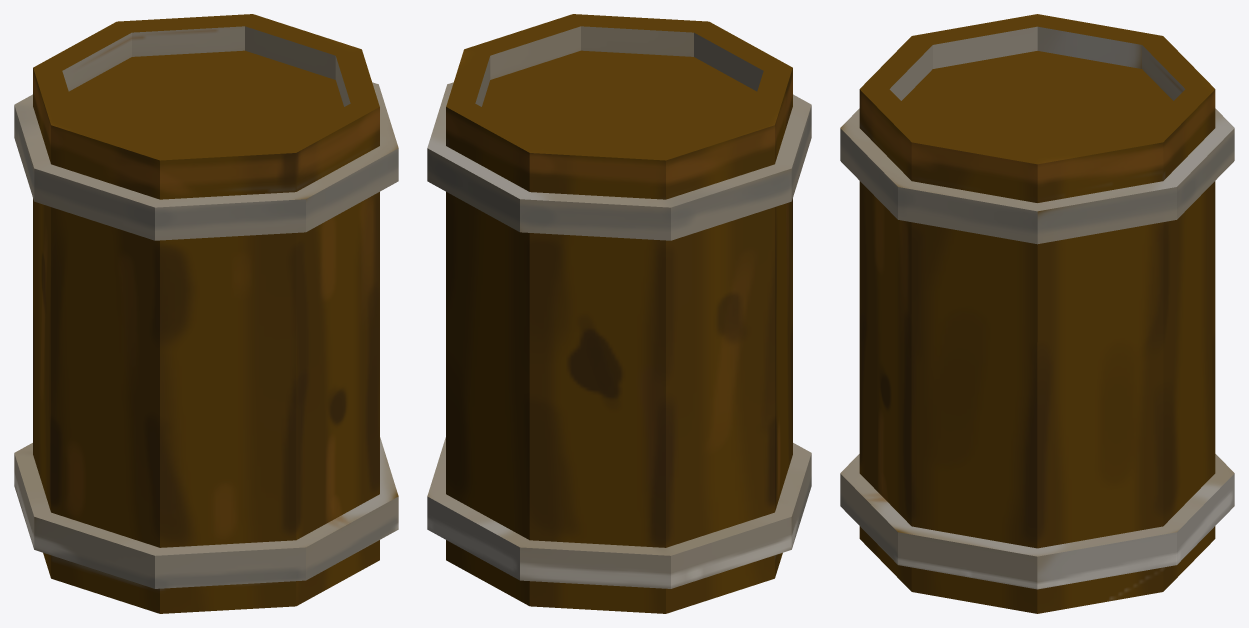
Rendered from Barril.fbx.
3 renders of one model, left to right at view 1: azimuth 30°, elevation 25°; view 2: azimuth 150°, elevation 25°; view 3: azimuth 270°, elevation 25°, orthographic.
Visible parts, largest first — view 1: Cylinder; view 2: Cylinder; view 3: Cylinder.
Boxes of the visible parts, x1,y1,x2,y2 form: Cylinder: (14,14,398,613); Cylinder: (427,14,811,613); Cylinder: (840,14,1234,613).
Bounding box in the file's own units: 222 × 279 × 222.
